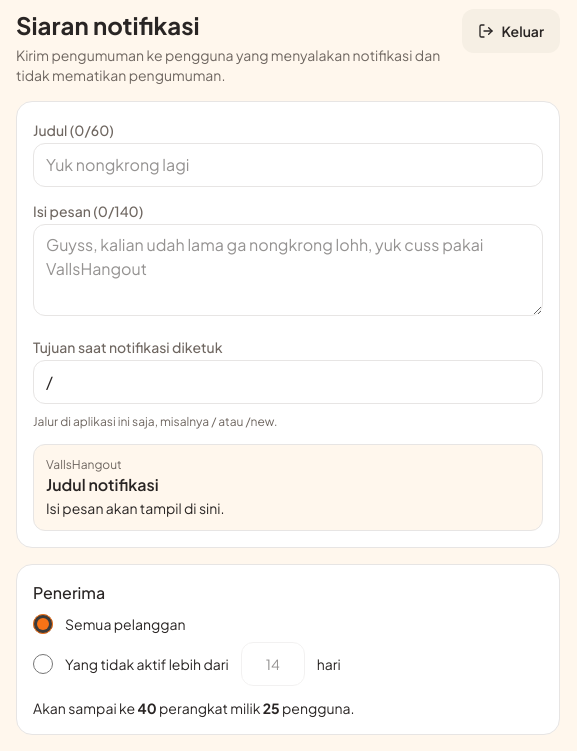
Scenario: <AdminPush /> form dan penerima › tombol kirim nonaktif sampai judul dan isi terisi; pratinjau mengikuti isian
The image size is (577, 751).
Expected: the text "Akan sampai ke 40 perangkat milik 25 pengguna." is shown, [33,699,355,717]
Type "Kangen kalian" into the field labelled "Judul (0/60)" at [288, 165], box [33,143,543,187]
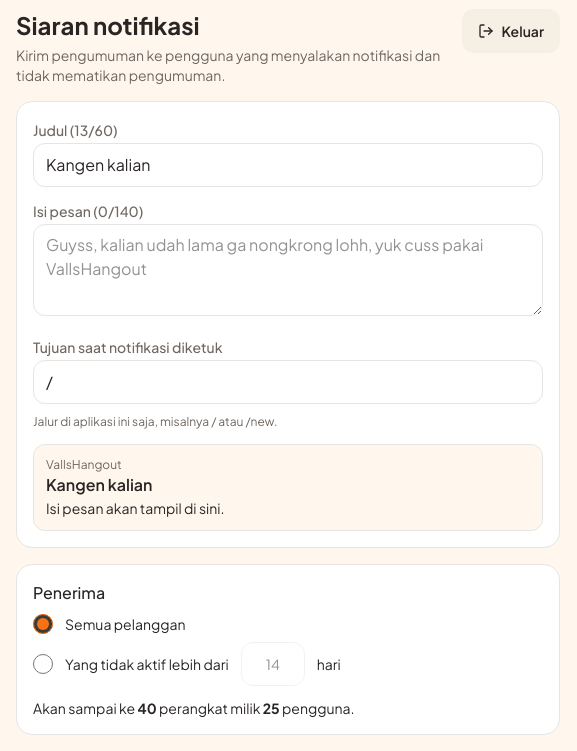
Replace the text in the text box labelled "Isi pesan (0/140)" with "Yuk kumpul" at [288, 270], box [33,224,543,316]
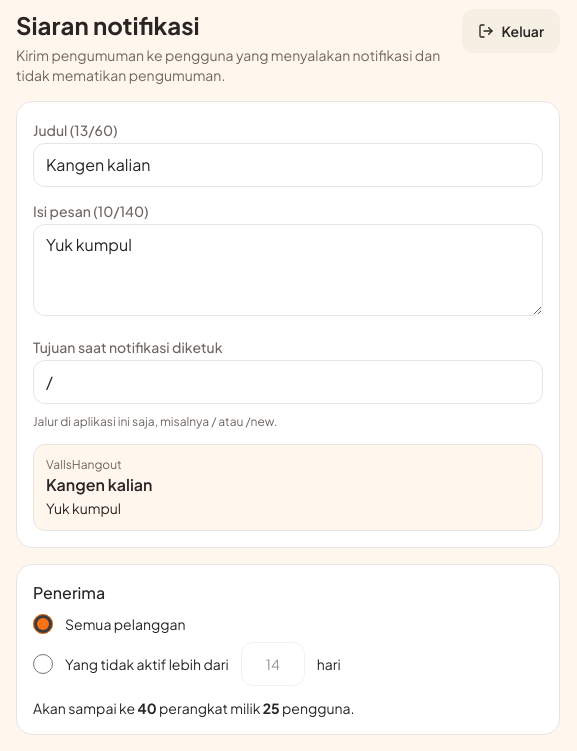
Result: the text "Kangen kalian" is shown at [46,474,152,495]
Result: the text "Yuk kumpul" is shown at [46,499,121,517]
